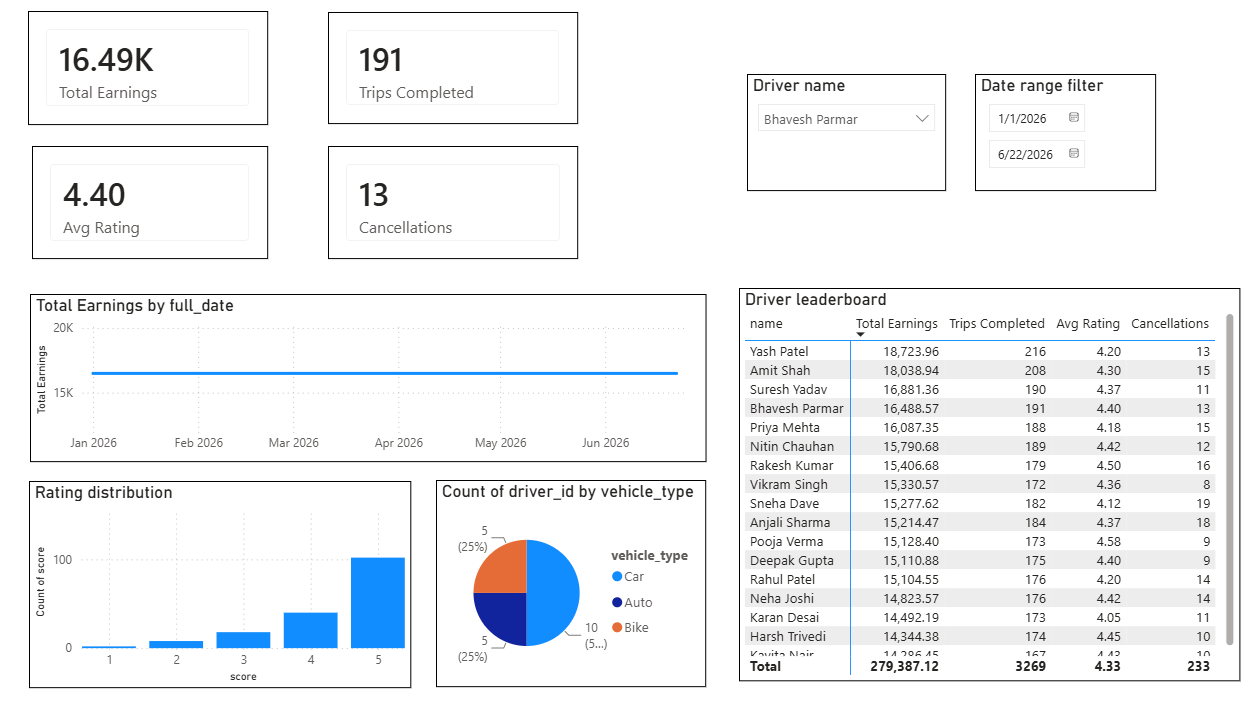

This screenshot's page, from the dashboard's own definition file:
{"tool":"powerbi","page":{"name":"Driver Performance","canvas":[1280,720],"ordinal":2},"visuals":[{"type":"slicer","title":"Driver name","fields":{"Values":["dim_driver.name"]},"box":[761.4,79.9,198.8,116.9],"z":0},{"type":"cardVisual","fields":{"Data":["fact_driver_performance.Total Earnings"]},"box":[43,17,239.8,113.9],"z":1000},{"type":"cardVisual","fields":{"Data":["fact_driver_performance.Trips Completed"]},"box":[342.7,18,249.8,111.9],"z":2000},{"type":"cardVisual","fields":{"Data":["fact_driver_performance.Avg Rating"]},"box":[47.1,151.5,235.6,113.3],"z":3000},{"type":"cardVisual","fields":{"Data":["fact_driver_performance.Cancellations"]},"box":[342.7,151.5,250,113.3],"z":4000},{"type":"lineChart","fields":{"Category":["dim_date.full_date"],"Y":["fact_driver_performance.Total Earnings"]},"box":[44.7,299.6,676,168.3],"z":5000},{"type":"slicer","title":"Date range filter","fields":{"Values":["dim_date.full_date"]},"box":[989.2,79.9,180.9,116.9],"z":6000},{"type":"pivotTable","title":"Driver leaderboard","fields":{"Rows":["dim_driver.name"],"Values":["fact_driver_performance.Total Earnings","fact_driver_performance.Trips Completed","fact_driver_performance.Avg Rating","fact_driver_performance.Cancellations"]},"box":[753.3,293.7,500.7,393.4],"z":7000},{"type":"clusteredColumnChart","title":"Rating distribution","fields":{"Category":["silver ratings.score"],"Y":["CountNonNull(silver ratings.score)"]},"box":[44.4,486.6,381.5,207],"z":8000},{"type":"pieChart","fields":{"Category":["dim_driver.vehicle_type"],"Y":["CountNonNull(dim_driver.driver_id)"]},"box":[450.6,485.7,270,206.7],"z":9000}]}

Visuals, with their boxes in screenshot pixels (x1, y1, x2, y2), scaled from the page's 1280x720 canvas onto the 1254x701 screenshot:
"Driver name" slicer: bbox=(746, 78, 941, 192)
cardVisual - fact_driver_performance.Total Earnings: bbox=(42, 17, 277, 127)
cardVisual - fact_driver_performance.Trips Completed: bbox=(336, 18, 580, 126)
cardVisual - fact_driver_performance.Avg Rating: bbox=(46, 148, 277, 258)
cardVisual - fact_driver_performance.Cancellations: bbox=(336, 148, 581, 258)
lineChart - dim_date.full_date x fact_driver_performance.Total Earnings: bbox=(44, 292, 706, 456)
"Date range filter" slicer: bbox=(969, 78, 1146, 192)
"Driver leaderboard" pivotTable: bbox=(738, 286, 1229, 669)
"Rating distribution" clusteredColumnChart: bbox=(43, 474, 417, 675)
pieChart - dim_driver.vehicle_type x CountNonNull(dim_driver.driver_id): bbox=(441, 473, 706, 674)
